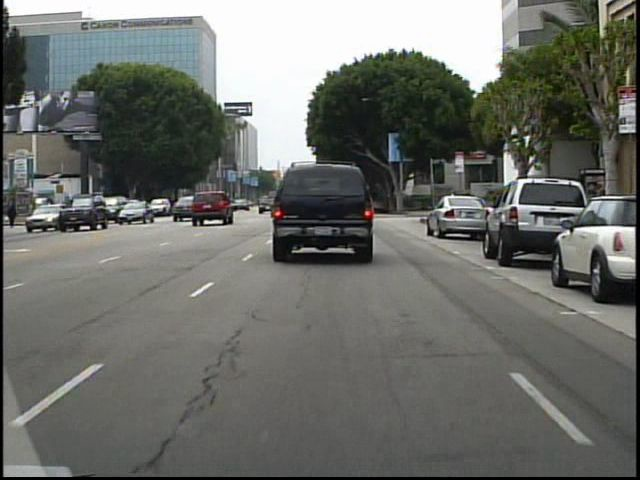person: (498, 177, 520, 226), (444, 187, 463, 227), (7, 201, 23, 231)
